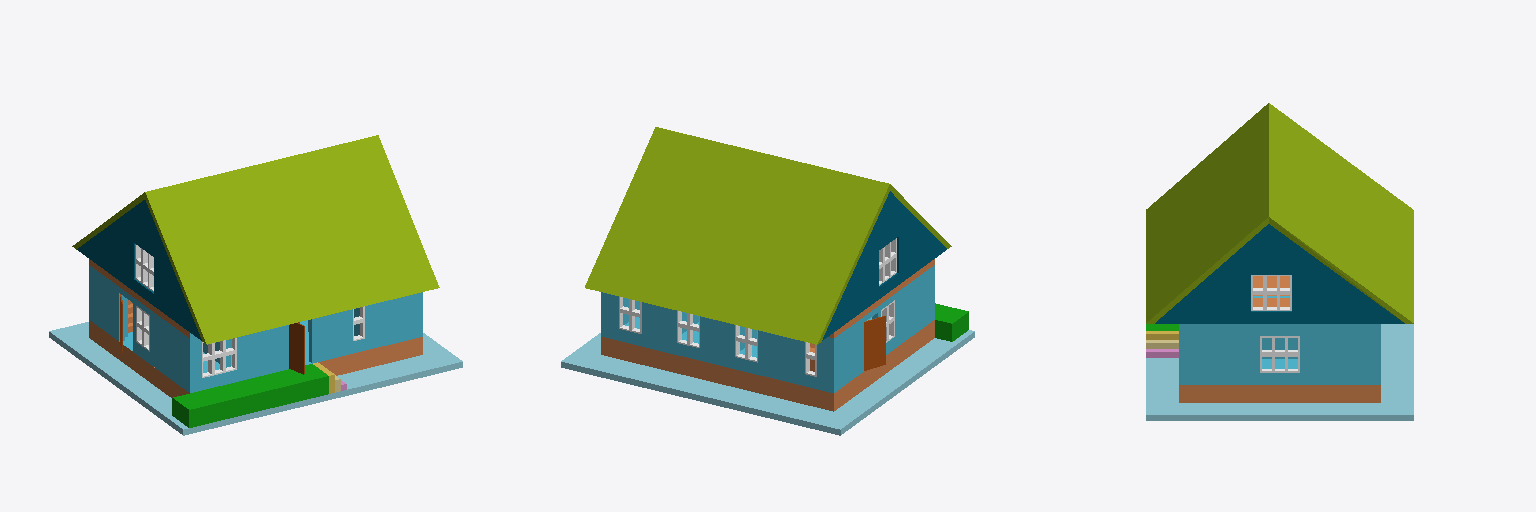
Rendered from house.obj.
3 views of the same model, side by side, from view 1: azimuth 30°, elevation 25°; view 2: azimuth 150°, elevation 25°; view 3: azimuth 270°, elevation 25° (orthographic).
Visible parts, largest first — view 1: Roof, First_Floor, Box003, Prism001, Box007, Base, Window2, Door4, Window011, Base001; view 2: Roof, First_Floor, Box003, Base, Prism001, Door7, Box007, Base001, Window011, Window7; view 3: Roof, First_Floor, Prism004, Box003, Base, Window4, Window010, Base001.
Part boxes in pixels (x1,y1,x2,y2): Roof: (72,135,439,344); First_Floor: (89,265,422,392); Box003: (49,322,462,435); Prism001: (77,200,201,340); Box007: (172,364,328,427); Base: (89,320,422,397); Window2: (202,338,236,377); Door4: (289,323,304,374); Window011: (135,244,153,291); Base001: (89,259,189,337); Roof: (585,127,951,344); First_Floor: (601,265,934,392); Box003: (561,330,974,435); Base: (601,320,934,411); Prism001: (822,191,946,340); Door7: (864,316,885,370); Box007: (935,303,968,341); Base001: (829,259,934,337); Window011: (879,238,896,285); Window7: (735,325,757,362); Roof: (1146,103,1413,323); First_Floor: (1179,296,1380,384); Prism004: (1155,224,1404,323); Box003: (1146,324,1413,420); Base: (1179,385,1380,402); Window4: (1260,336,1299,372); Window010: (1251,275,1291,310); Base001: (1253,276,1289,306).
Bounding box in the file's own units: 48 × 31.67 × 40.